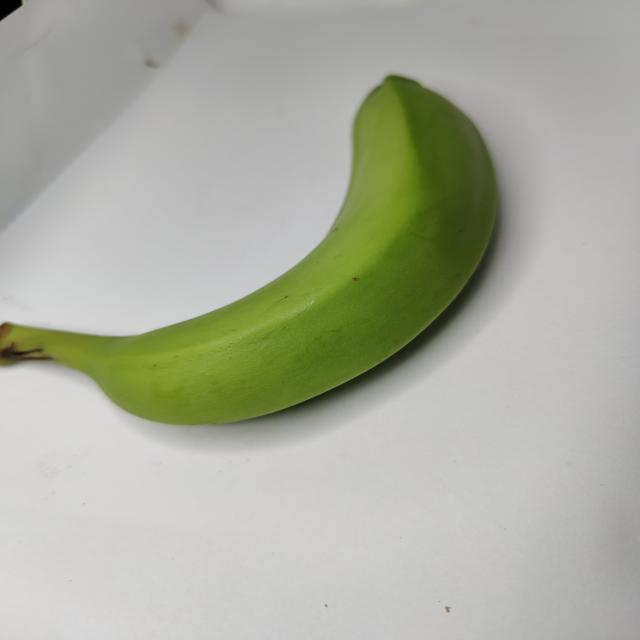raw: (0, 61, 593, 459)
